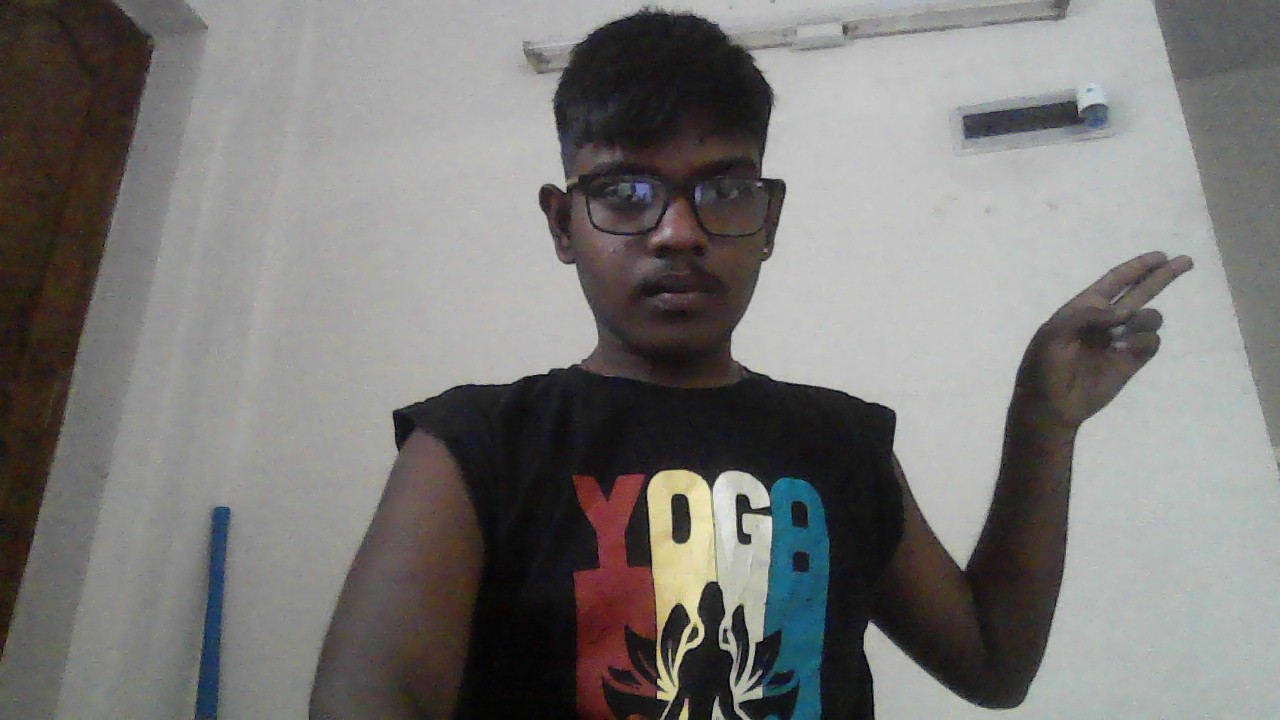H: (1010, 249, 1193, 433)
